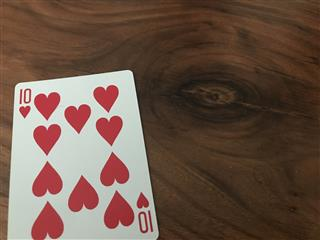TenOfHearts: (5, 67, 160, 240)
